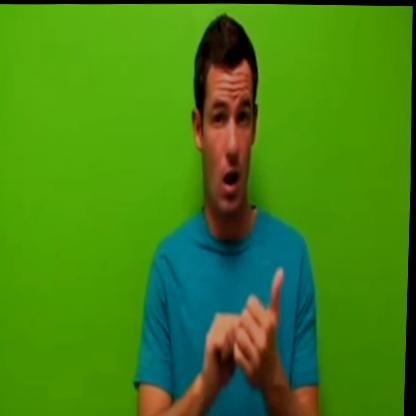HowAreYou: (175, 251, 293, 394)
